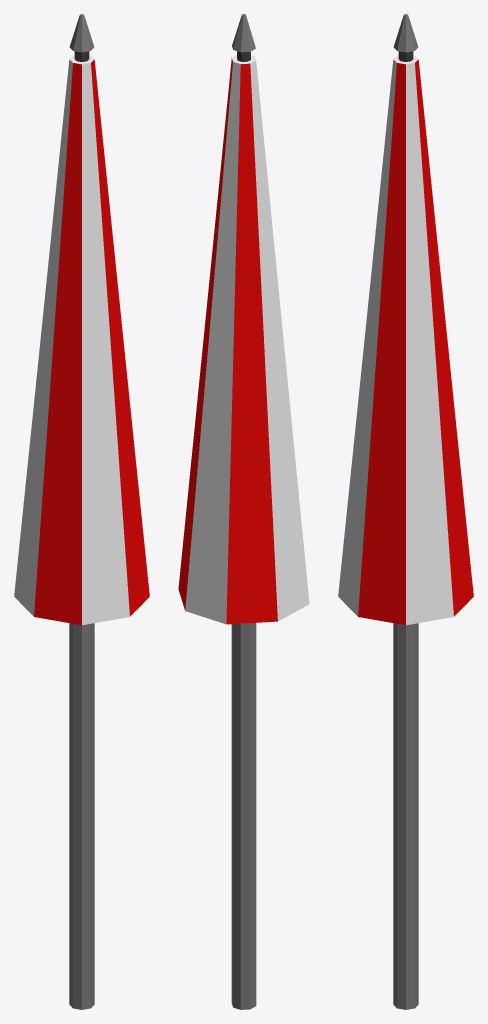
File: parasol_Close.fbx
3 views of the same model, side by side, from view 1: azimuth 90°, elevation 25°; view 2: azimuth 210°, elevation 25°; view 3: azimuth 270°, elevation 25° (orthographic).
Visible parts, largest first — view 1: parasol_Close; view 2: parasol_Close; view 3: parasol_Close.
Boxes of the visible parts, x1,y1,x2,y2 form: parasol_Close: [14, 14, 149, 1009]; parasol_Close: [178, 14, 309, 1009]; parasol_Close: [338, 14, 473, 1009].
Size of the model in its own units: 57.32 by 461 by 57.32.
1 material, 1 textured.
